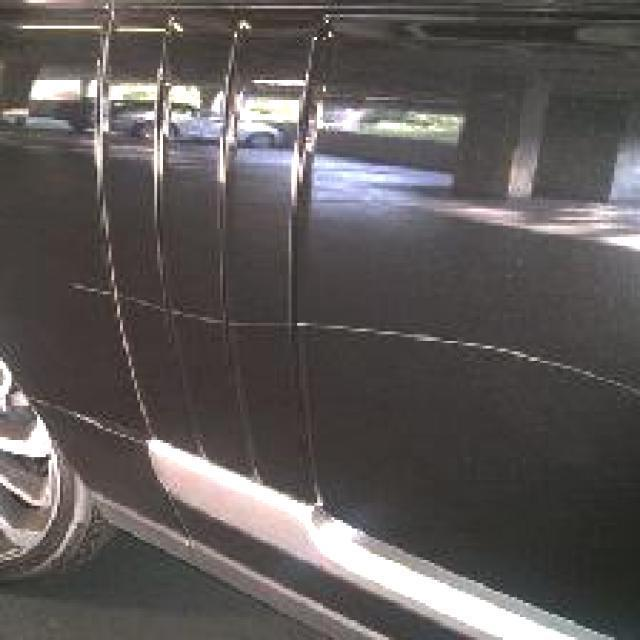minor: (307, 308, 618, 403), (169, 313, 218, 328), (232, 322, 275, 335), (128, 301, 157, 318), (69, 285, 104, 296)
